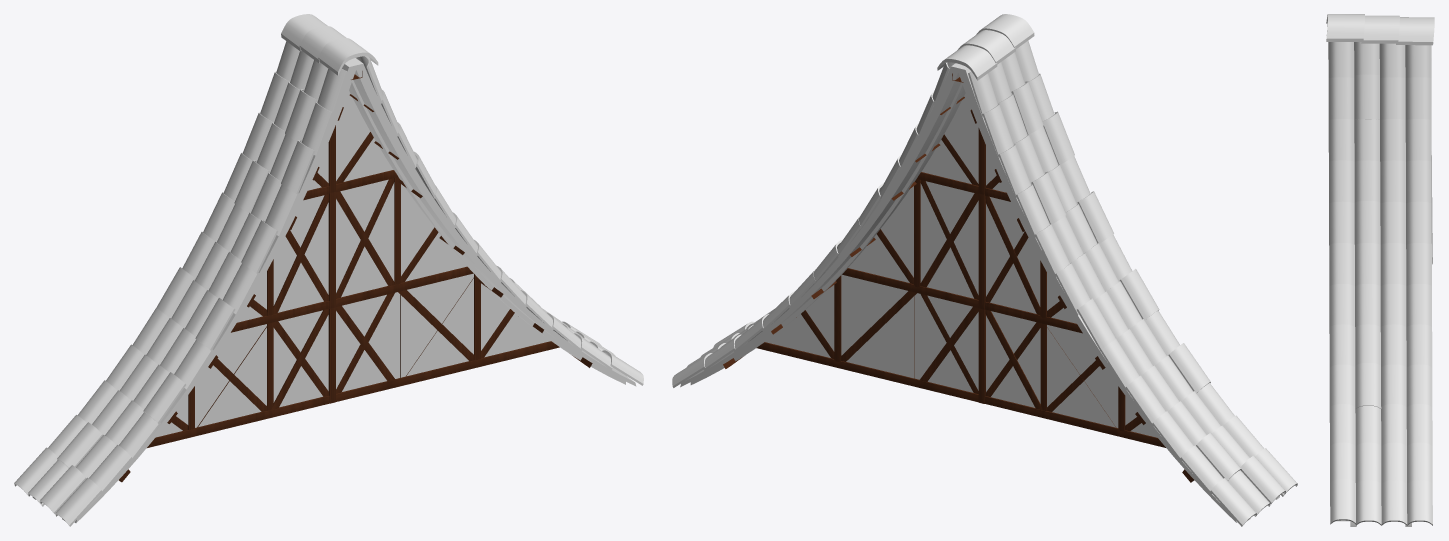
File: L_Roof_Frame_Wood.fbx
3 renders of one model, left to right at view 1: azimuth 30°, elevation 25°; view 2: azimuth 150°, elevation 25°; view 3: azimuth 270°, elevation 25°, orthographic. The views are drawn at different scales.
Visible parts, largest first — view 1: L_Roof_Frame_Wood, Cube.025, Cube.082, Cube.019; view 2: L_Roof_Frame_Wood, Cube.025, Cube.082, Cube.019; view 3: Cube.025, L_Roof_Frame_Wood.
Boxes of the visible parts, box(x1,y1,x2,y2) form: L_Roof_Frame_Wood: box(32, 58, 636, 522); Cube.025: box(14, 14, 643, 526); Cube.082: box(147, 125, 559, 447); Cube.019: box(119, 71, 592, 482); L_Roof_Frame_Wood: box(680, 63, 1279, 522); Cube.025: box(672, 14, 1297, 526); Cube.082: box(756, 128, 1165, 447); Cube.019: box(723, 73, 1194, 482); Cube.025: box(1326, 14, 1434, 525); L_Roof_Frame_Wood: box(1336, 45, 1431, 526).
Bounding box in the file's own units: 1300 × 870 × 224.
